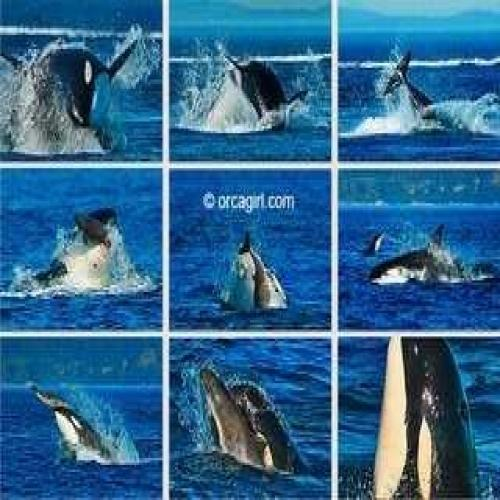killer_whale-endangered: (367, 332, 496, 500), (13, 14, 150, 154), (190, 353, 310, 485), (20, 190, 149, 302), (351, 213, 495, 304), (201, 33, 301, 142), (30, 382, 136, 480), (222, 234, 308, 321), (389, 53, 469, 141)
